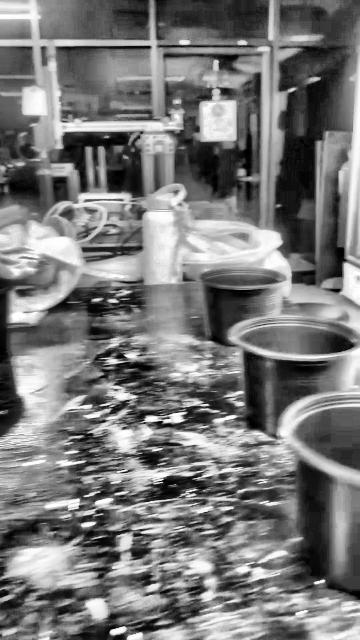pot: (227, 315, 359, 437), (293, 392, 360, 598), (200, 267, 285, 344), (0, 279, 8, 356)
